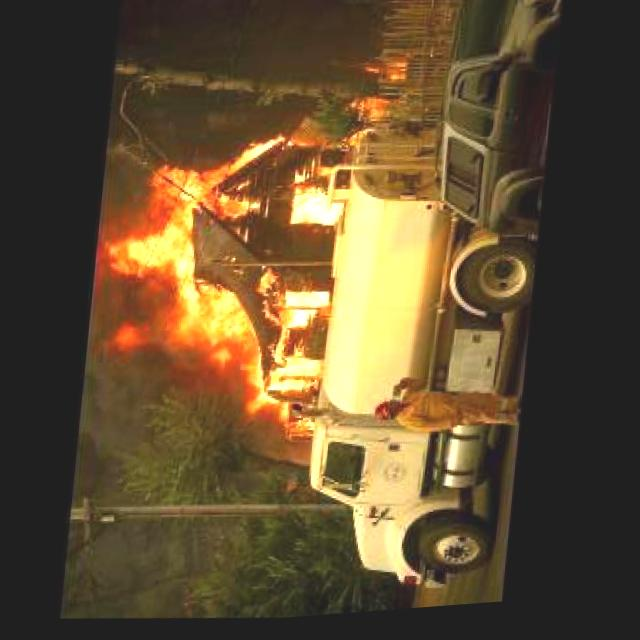helmet: (86, 115, 351, 462)
